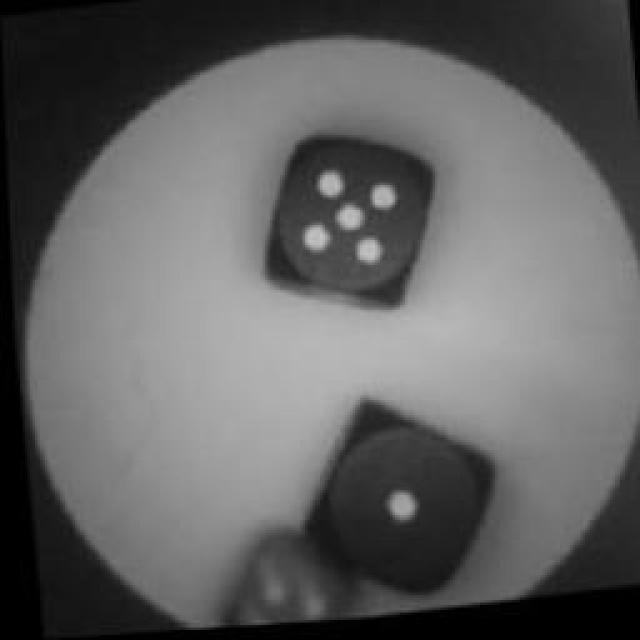dice_1: (299, 399, 496, 611)
dice_4: (210, 540, 340, 630)
dice_5: (256, 125, 444, 327)
